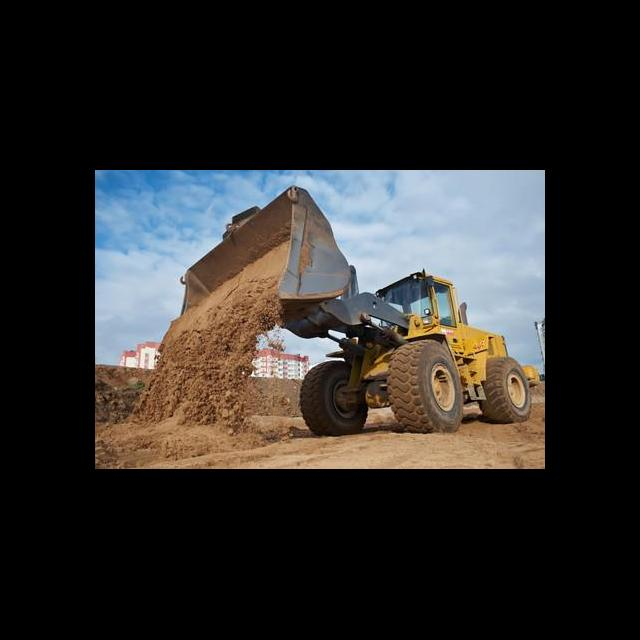wheel loader: (159, 186, 535, 436)
